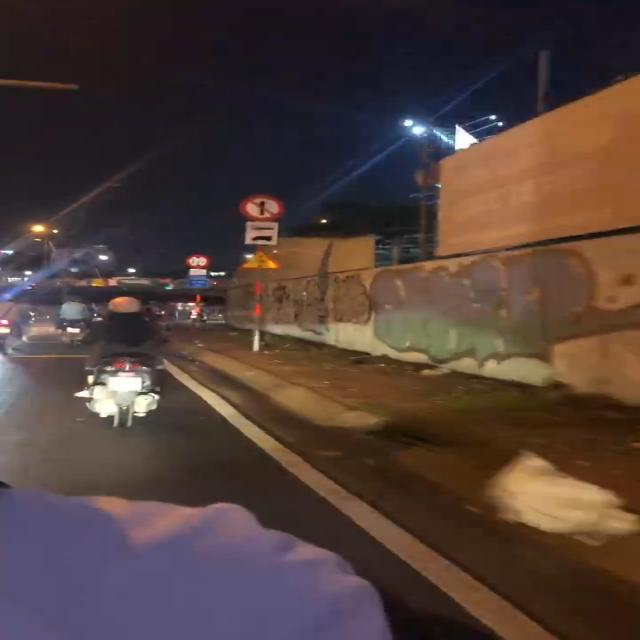Bien bao cam di thang: (236, 190, 289, 220)
